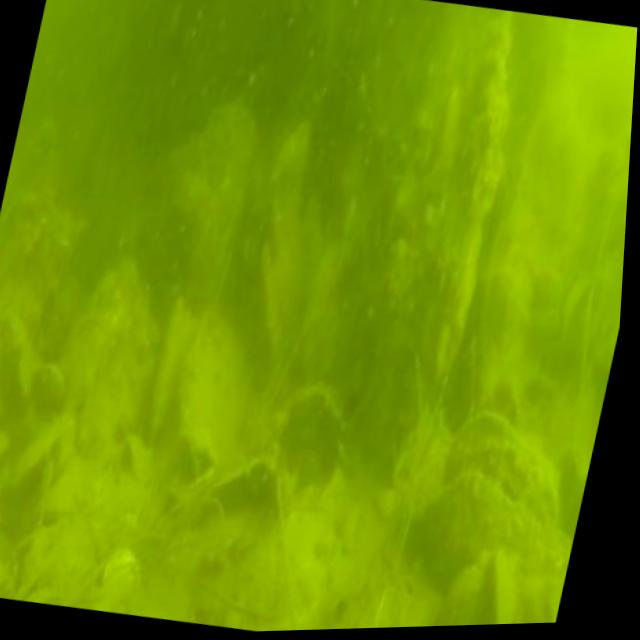Oyster-Indeterminate: (403, 476, 569, 624), (444, 412, 559, 528), (175, 311, 259, 468), (145, 286, 190, 460), (282, 378, 342, 488)
